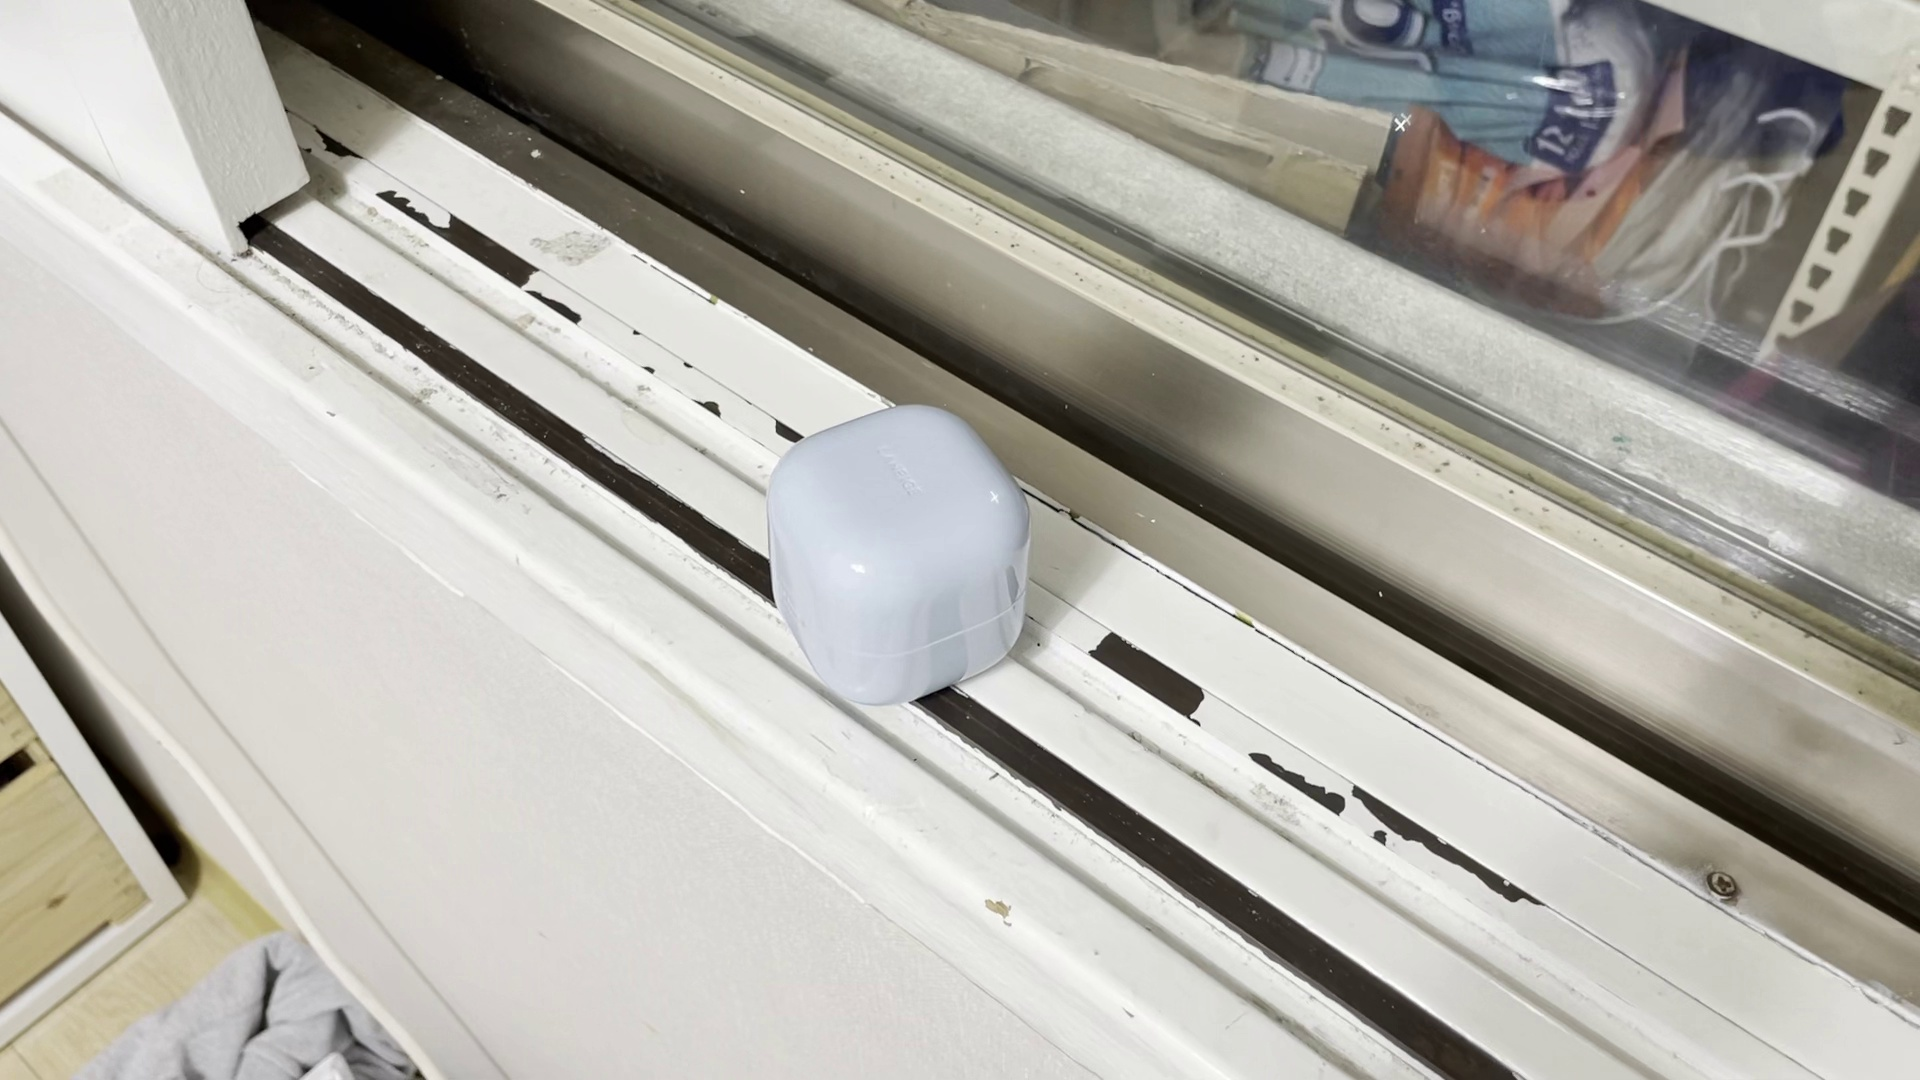cream: (761, 404, 1033, 713)
